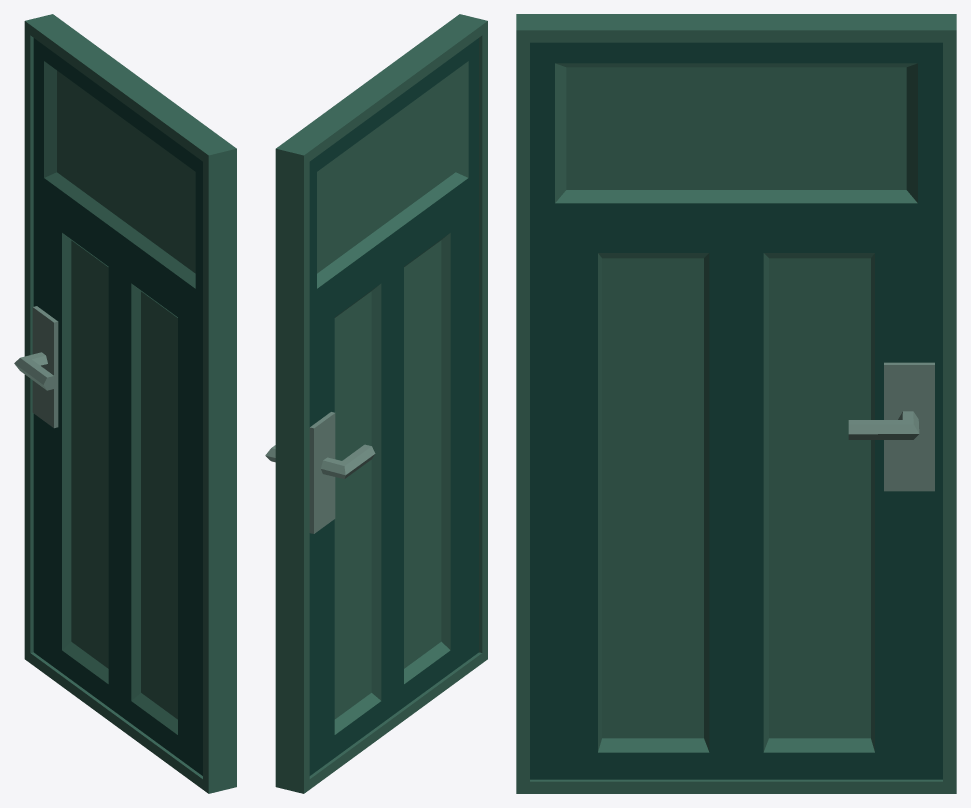
File: door.fbx
3 views of the same model, side by side, from view 1: azimuth 30°, elevation 25°; view 2: azimuth 150°, elevation 25°; view 3: azimuth 270°, elevation 25° (orthographic). The views are drawn at different scales.
Parts seen in each view (by area): view 1: door_geo, frame_geo, handle_metal_geo, handle_geo; view 2: door_geo, frame_geo, handle_metal_geo, handle_geo; view 3: door_geo, frame_geo, handle_metal_geo, handle_geo.
Boxes of the visible parts, <box> form: door_geo: <box>33,38,202,775</box>; frame_geo: <box>24,14,236,793</box>; handle_metal_geo: <box>32,306,58,428</box>; handle_geo: <box>14,352,57,390</box>; door_geo: <box>309,38,478,775</box>; frame_geo: <box>275,14,487,793</box>; handle_metal_geo: <box>309,412,335,533</box>; handle_geo: <box>265,444,375,478</box>; door_geo: <box>530,42,942,779</box>; frame_geo: <box>516,14,956,793</box>; handle_metal_geo: <box>884,362,934,491</box>; handle_geo: <box>848,411,919,439</box>.
Bounding box in the file's own units: 92.08 × 693 × 362.
